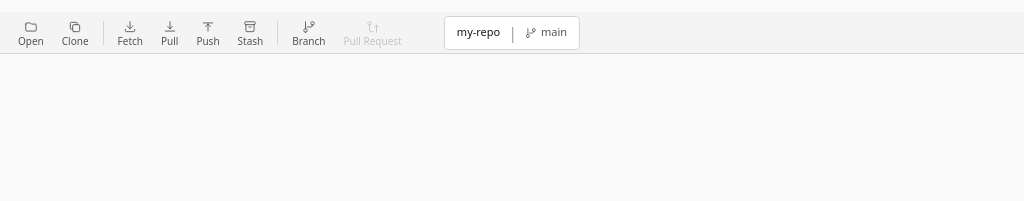
Test: ActionToolbar › Branch flyover › closes the branch form on Cancel
Click the button with test id "toolbar-btn-Branch" at point(309, 32), box [284,16,334,50]
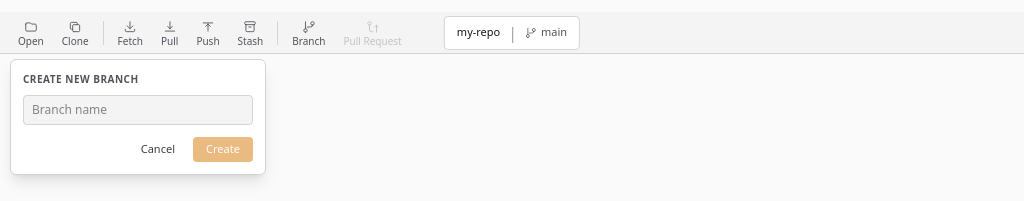
Now the heading "Create New Branch" is shown, box [23,72,139,86]
Click the button "Cancel" at point(158, 149), box [131,137,185,162]
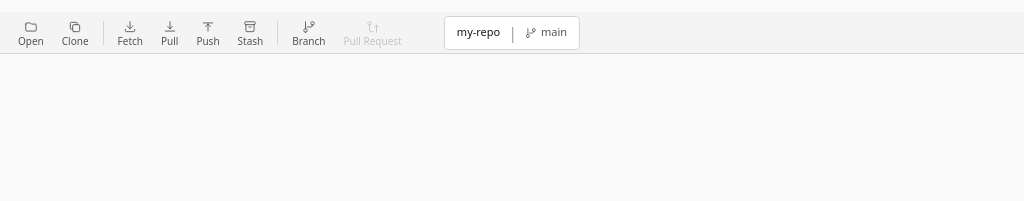
Now the heading "Create New Branch" is gone
